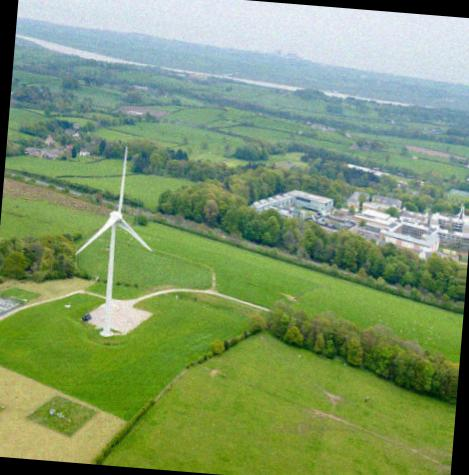wind turbine: (75, 146, 154, 309)
